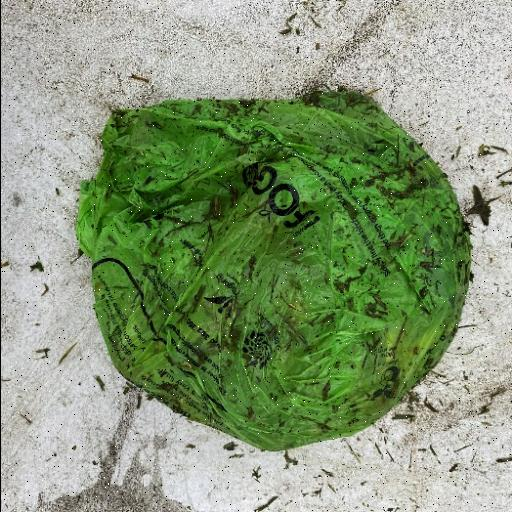Waste: (74, 86, 474, 452)
